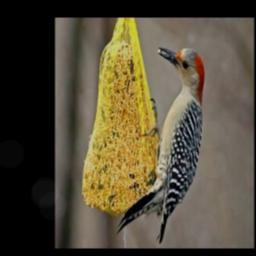Woodpecker: (112, 38, 216, 241)
